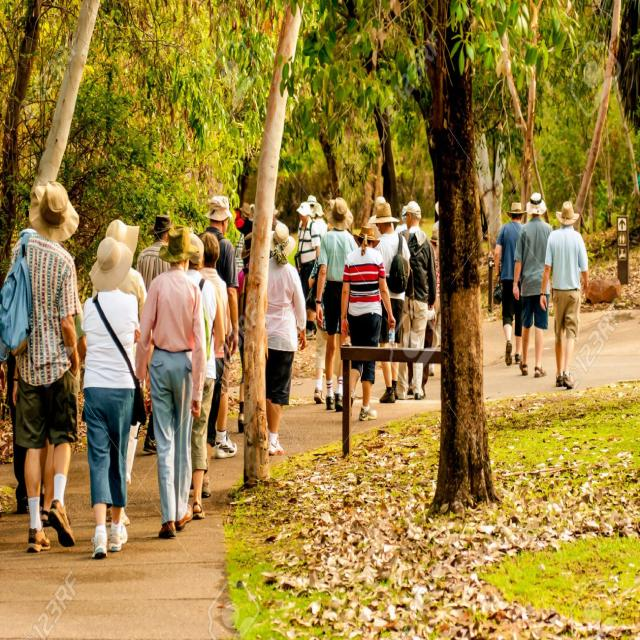body: (0, 179, 82, 556), (133, 221, 210, 540), (78, 234, 143, 562), (91, 218, 149, 527), (187, 193, 240, 461), (182, 231, 226, 521), (339, 224, 396, 423), (314, 195, 362, 414), (264, 222, 308, 458), (538, 199, 590, 391), (198, 230, 234, 498), (136, 212, 174, 455), (368, 200, 412, 405), (394, 199, 438, 402), (512, 190, 558, 379), (307, 222, 341, 404), (492, 200, 528, 367), (3, 348, 29, 516), (293, 200, 322, 342), (422, 200, 440, 400), (36, 431, 71, 528), (236, 230, 252, 434), (365, 194, 409, 238), (234, 198, 277, 240), (309, 200, 329, 262), (74, 297, 90, 369), (406, 330, 416, 398), (306, 193, 317, 215)
